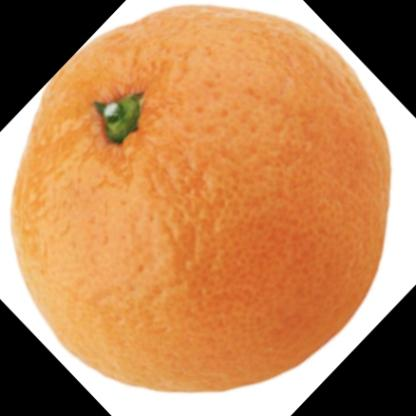fresh: (14, 8, 391, 390)
